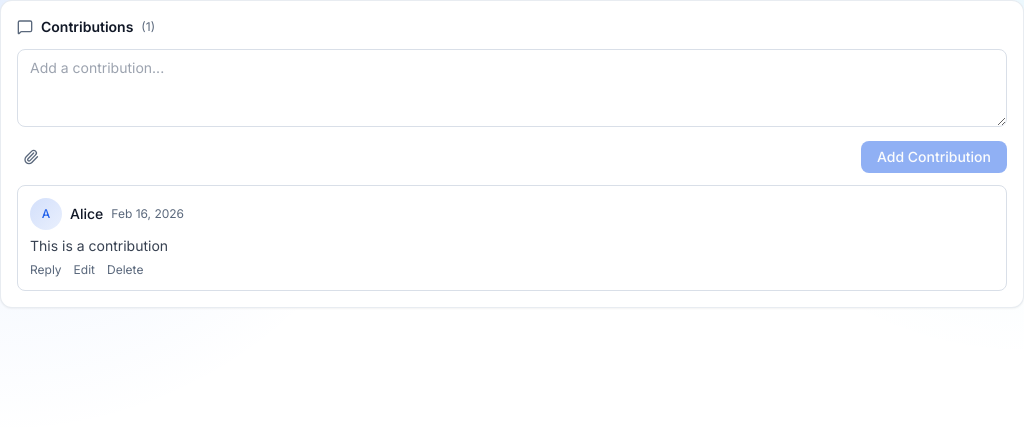
Test: CommentSection › Should_ShowReplyForm_WhenReplyClicked
The width and height of the screenshot is (1024, 431).
Expected: the text "Alice" is shown, [70,204,103,224]
Click the button "Reply": (46, 270) [30,262,62,278]
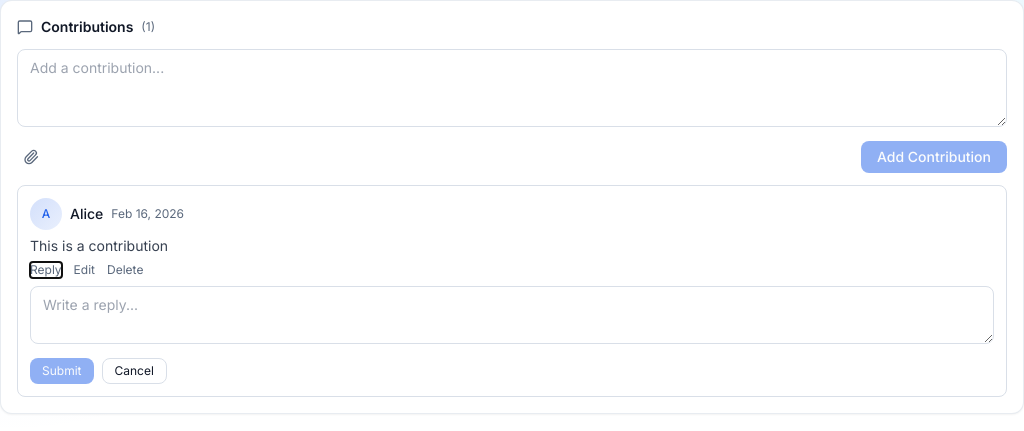
Now the text box with placeholder "Write a reply..." is shown, box [30,286,994,344]
